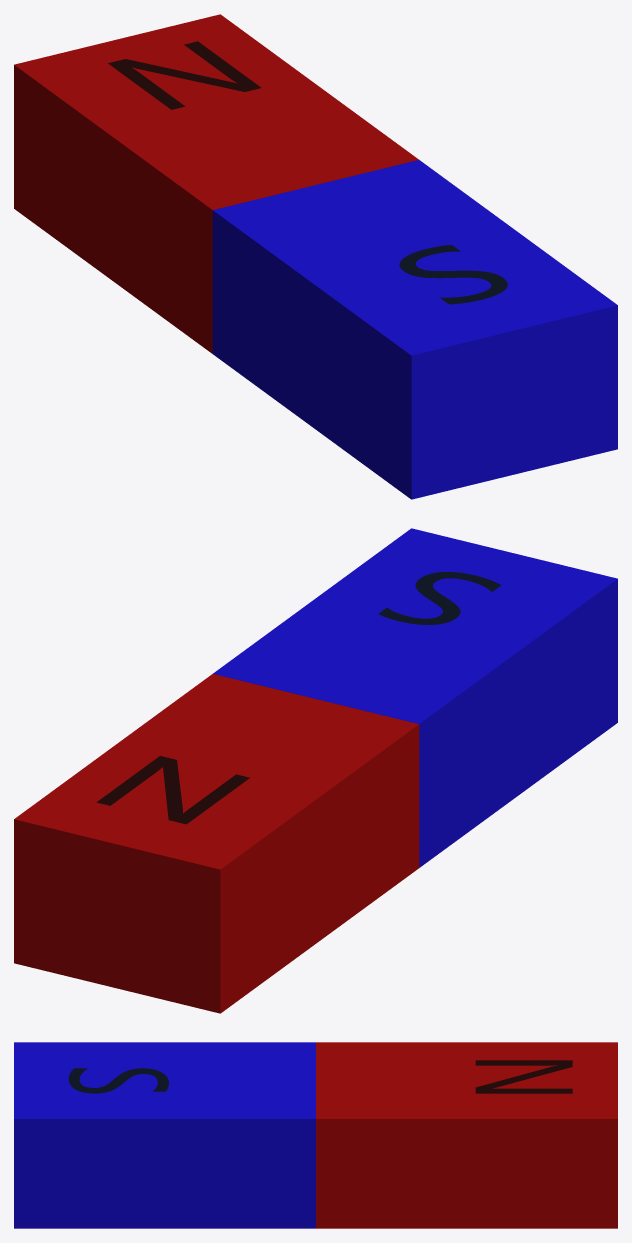
Rendered from magnet_bar.FBX.
3 views of the same model, one above another, from view 1: azimuth 30°, elevation 25°; view 2: azimuth 150°, elevation 25°; view 3: azimuth 270°, elevation 25° (orthographic). The views are drawn at different scales.
Parts seen in each view (by area): view 1: Text002; view 2: Text002; view 3: Text002.
Part boxes in pixels (x1=…): Text002: x1=14, y1=14, x2=617, y2=499; Text002: x1=14, y1=528, x2=617, y2=1013; Text002: x1=14, y1=1042, x2=617, y2=1228.
Bounding box in the file's own units: 0.5906 × 0.4147 × 1.97.
